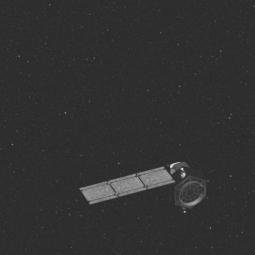earth_observation_sat_1: (122, 155, 214, 222)
